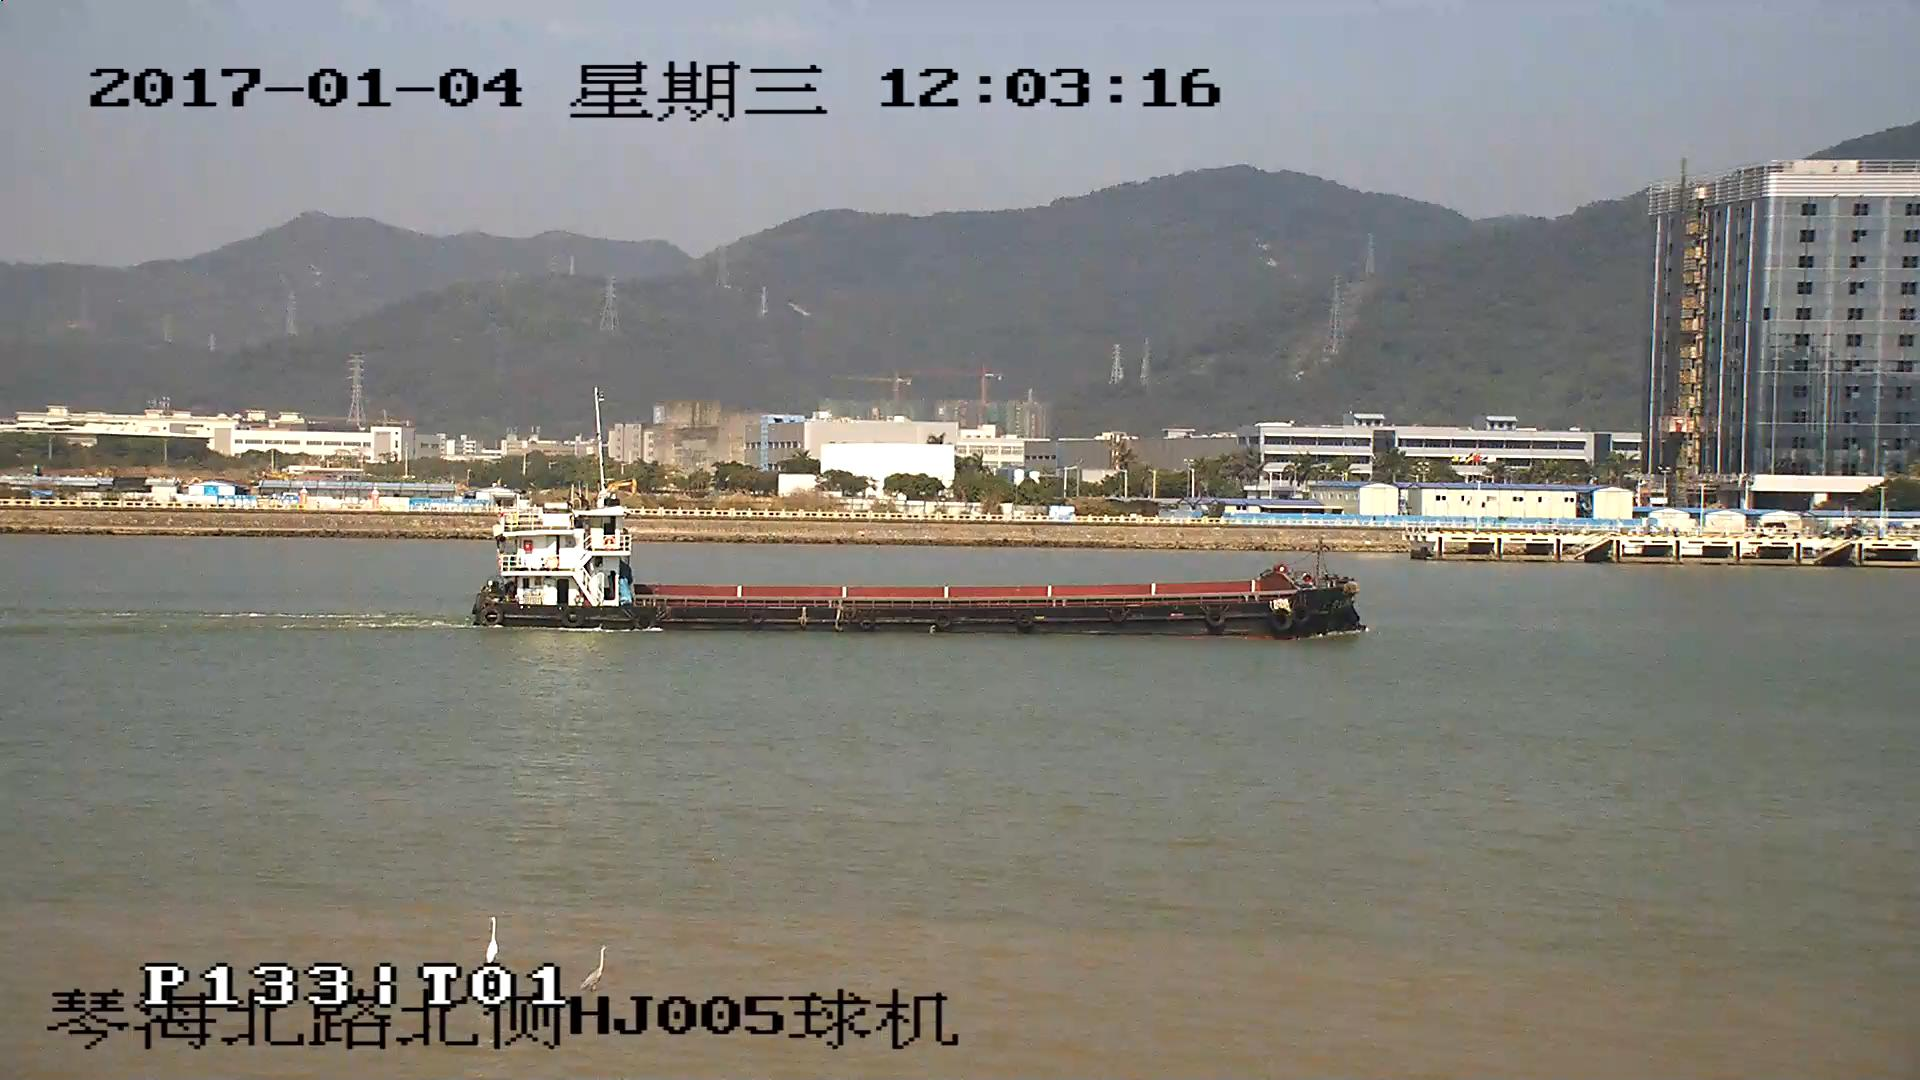general cargo ship: (472, 504, 1369, 640)
